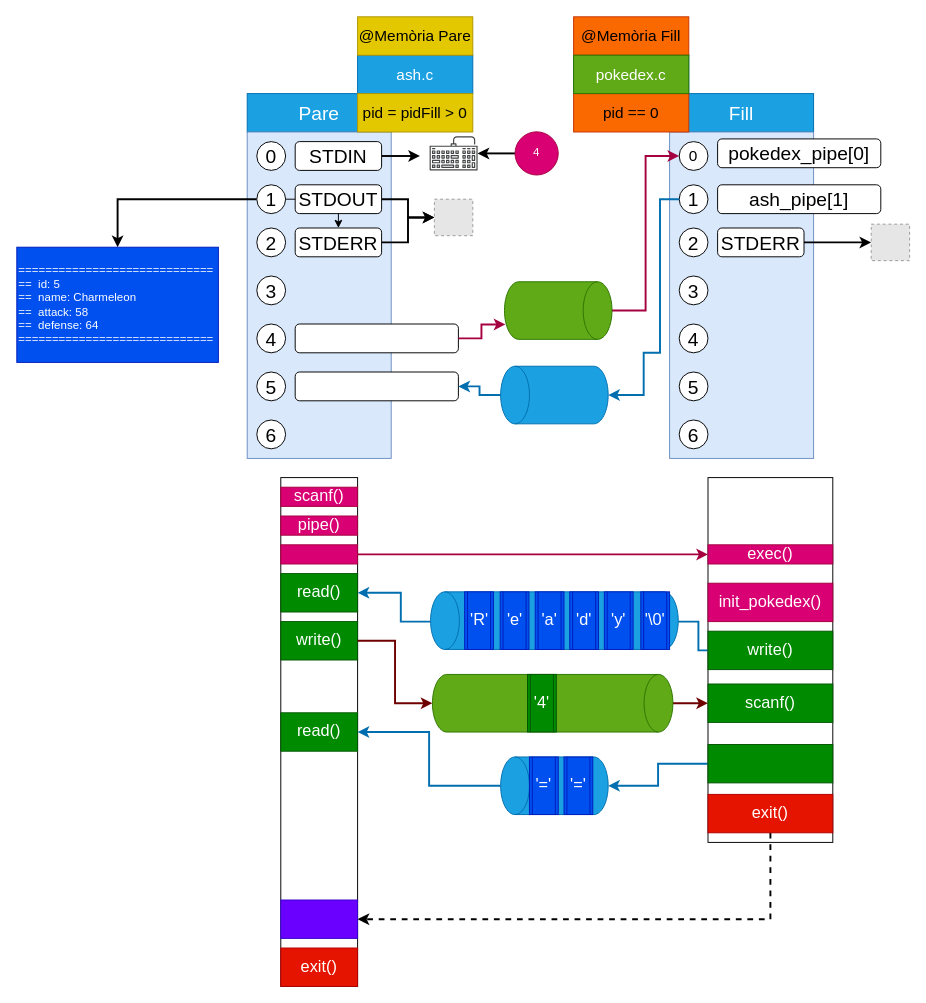
Image size: 926x1003. Some labels were removed from this diagram. Grey dashed boxes stand in for pictures. The centre of each missing label's shape, as x and y in pixels:
"ash_pipe[0]" goes at (376,386).
"fork()" goes at (319,554).
"pokedex_pipe[1]" goes at (376,338).
"show_pokemon()" goes at (770,763).
"wait()" goes at (319,918).
